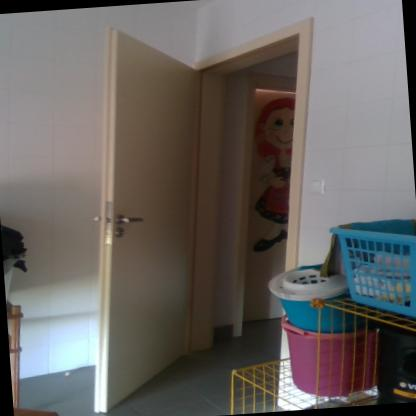semi: (58, 5, 326, 415)
